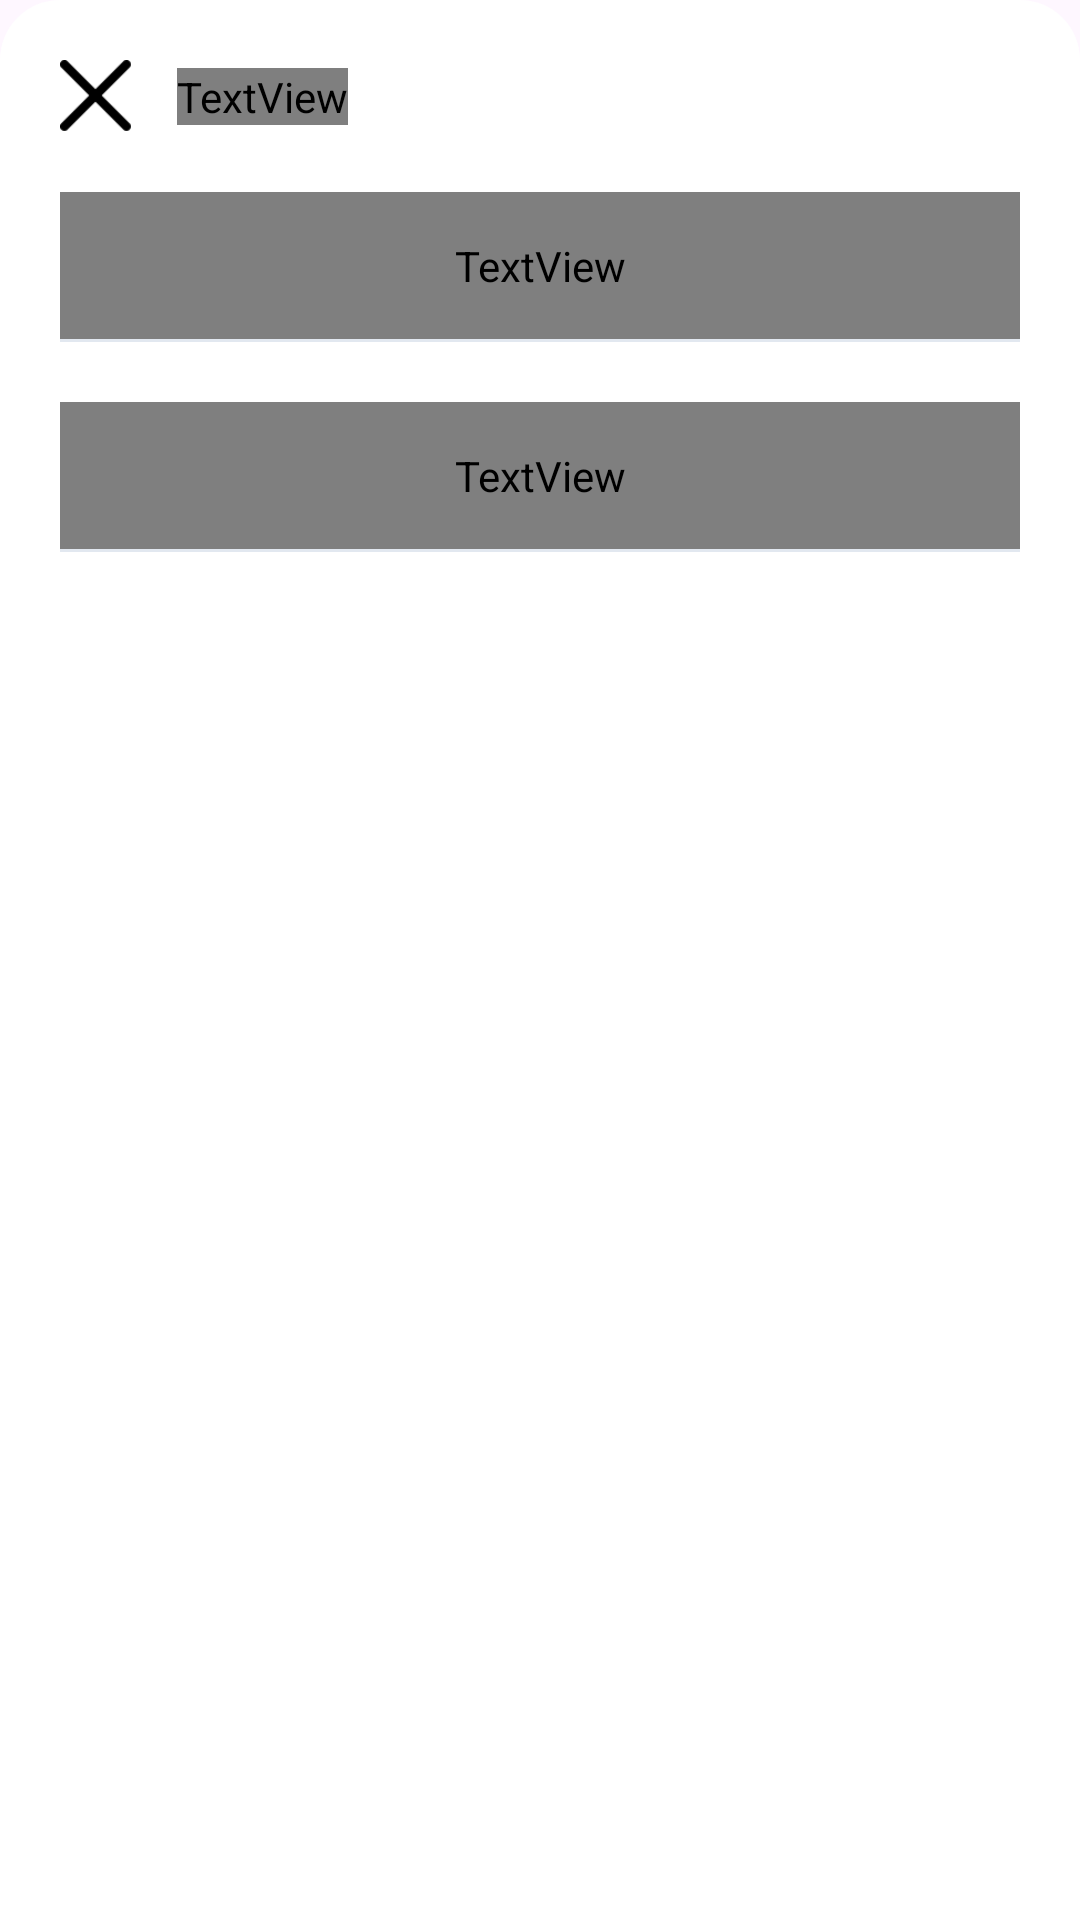

Locate icon controls on the screen. Image size 1080x1920, boxes as (x1, y1, x2, y2).
close: (60, 60, 131, 131)
